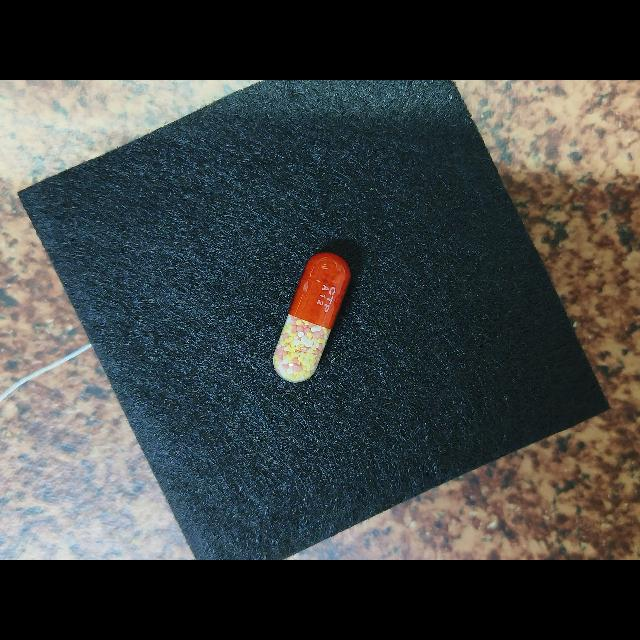Intact Capsule: (273, 252, 350, 382)
